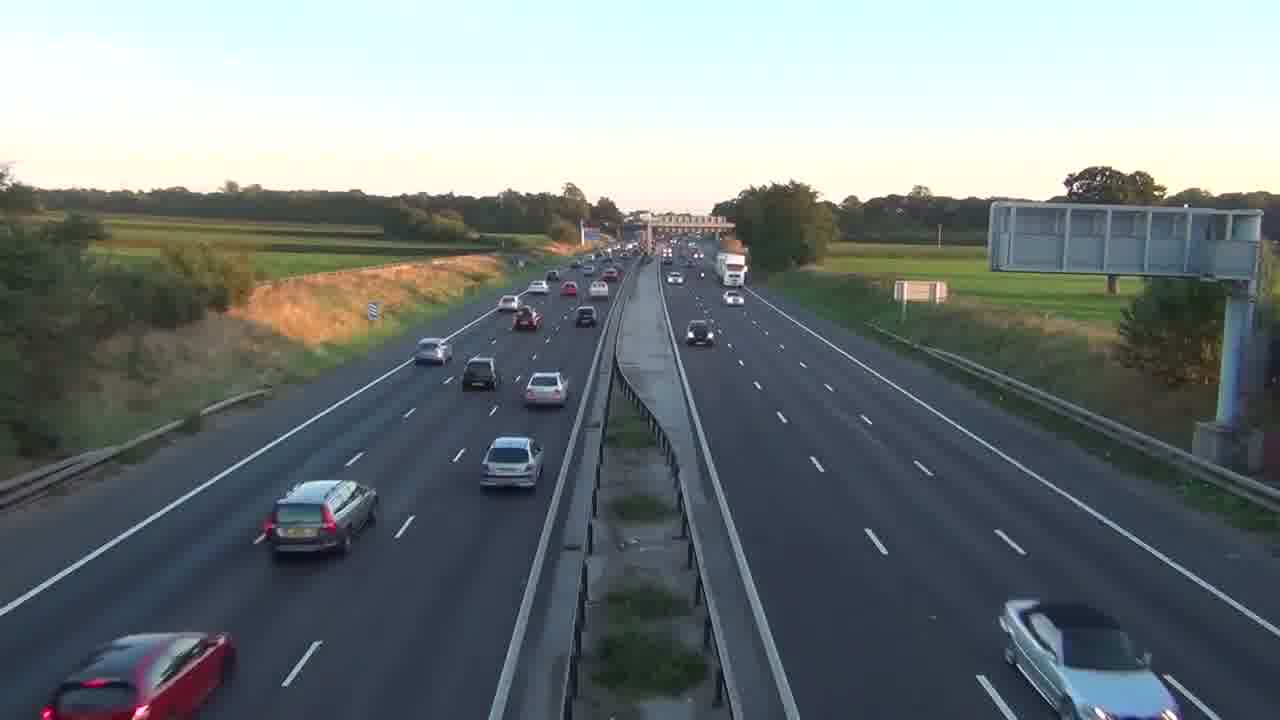car: (997, 596, 1187, 719), (39, 629, 238, 719), (479, 435, 544, 490), (523, 370, 568, 406), (461, 357, 497, 391), (685, 319, 716, 347), (575, 305, 597, 327)
truck: (257, 478, 379, 557), (718, 252, 747, 287)
